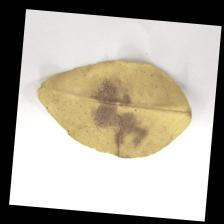canker: (83, 73, 153, 154)
